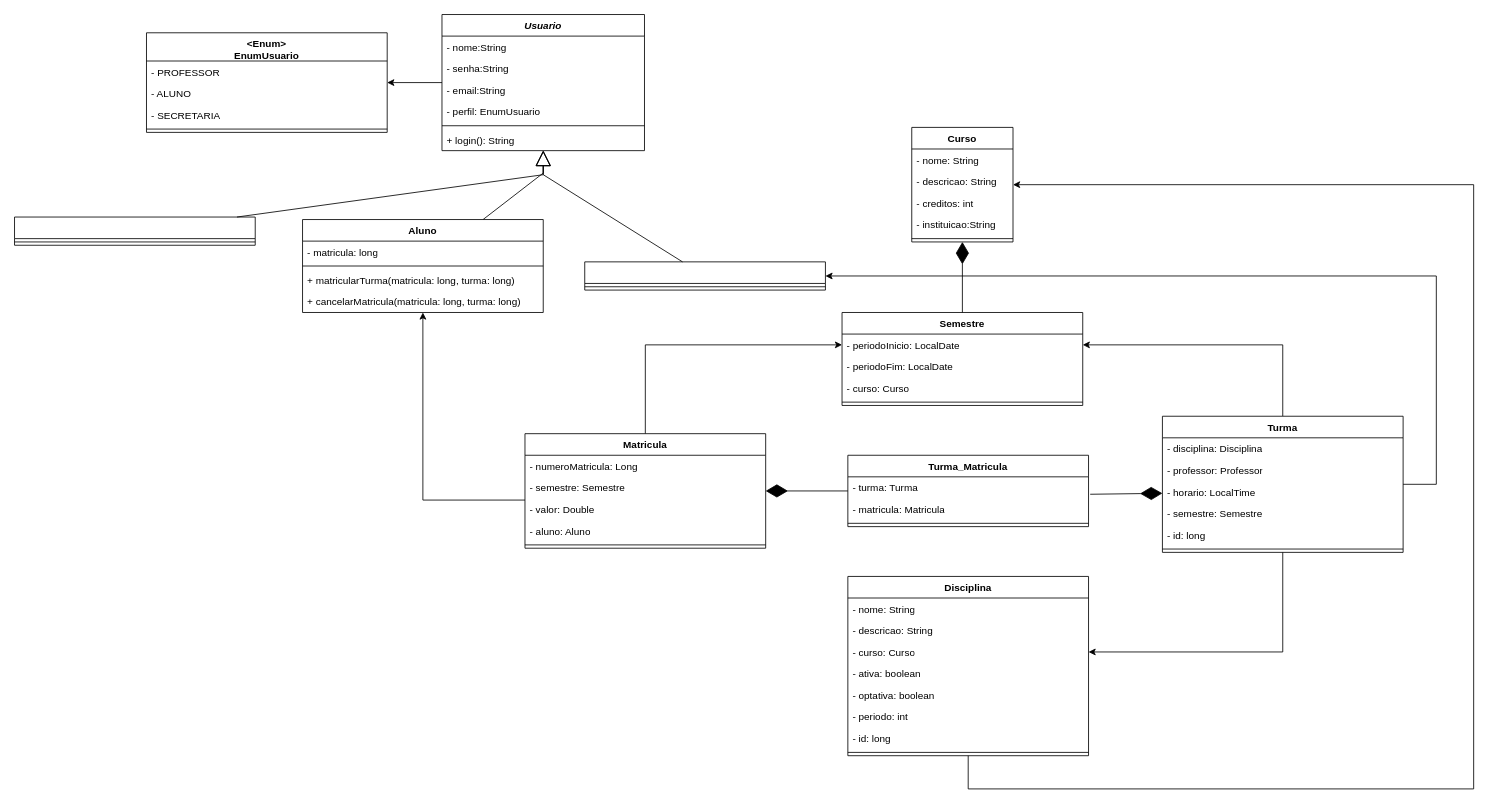
Image size: 1495x810. Some labels were removed from this diagram. The centre of each missing label's shape, as x and y in pixels:
Professor: the point at 704,275
Secretaria: the point at 134,230
